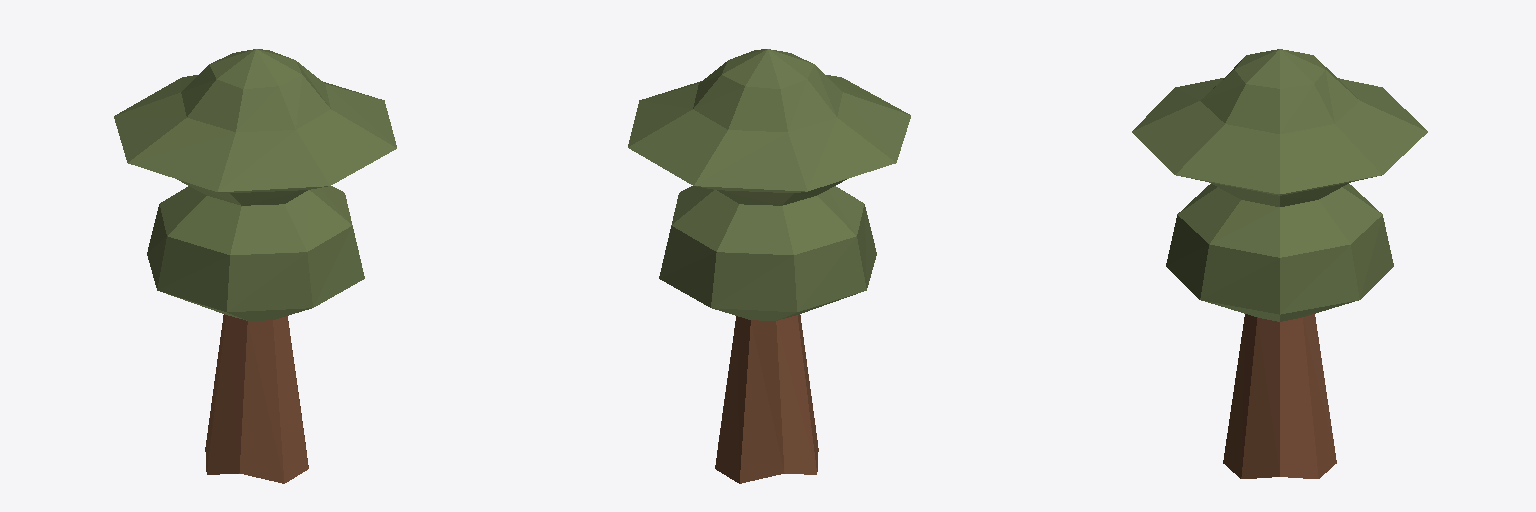
3 renders of one model, left to right at view 1: azimuth 30°, elevation 25°; view 2: azimuth 150°, elevation 25°; view 3: azimuth 270°, elevation 25°, orthographic.
Parts seen in each view (by area): view 1: Geode.Geode.026_Geode.033; view 2: Geode.Geode.026_Geode.033; view 3: Geode.Geode.026_Geode.033.
Boxes of the visible parts, x1,y1,x2,y2 form: Geode.Geode.026_Geode.033: [114, 49, 396, 483]; Geode.Geode.026_Geode.033: [628, 49, 910, 483]; Geode.Geode.026_Geode.033: [1132, 49, 1427, 478].
Size of the model in its own units: 0.035 by 0.0539 by 0.035.
1 materials, 1 textured.